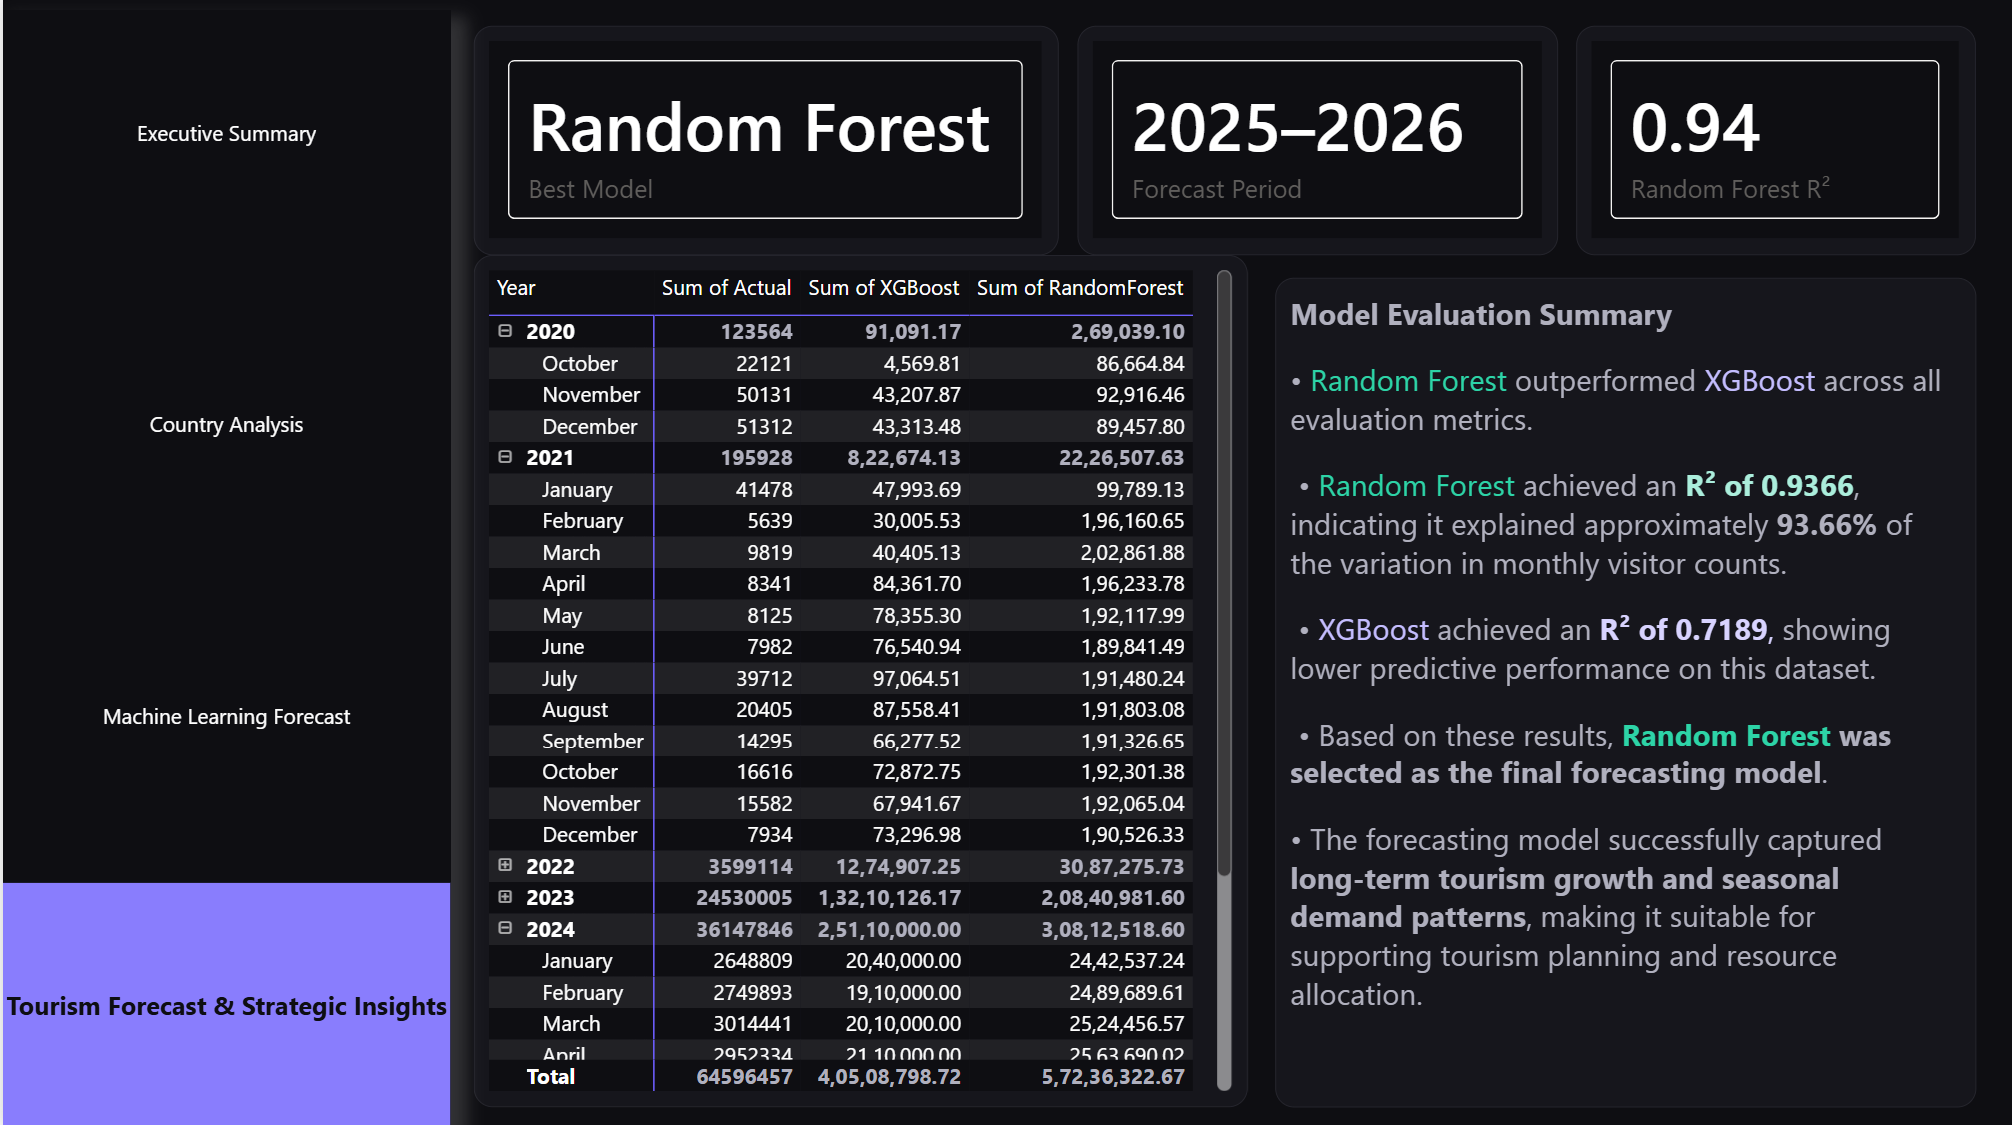

The page's visual inventory and layout, read from the dashboard file:
{"tool":"powerbi","page":{"name":"Tourism Forecast & Strategic Insights","canvas":[1280,720],"ordinal":3},"visuals":[{"type":"cardVisual","fields":{"Data":["JTD_cleaned_1.Best Model"]},"box":[299.2,18.4,371.5,145.9],"z":0},{"type":"cardVisual","fields":{"Data":["Table.Forecast Period"]},"box":[681.7,18.4,305.3,145.9],"z":1000},{"type":"cardVisual","fields":{"Data":["JTD_cleaned_1.Random Forest R²"]},"box":[998.7,18.9,253.8,145.9],"z":2000},{"type":"pivotTable","fields":{"Values":["Sum(Forecast_Results.Actual)","Sum(Forecast_Results.XGBoost)","Sum(Forecast_Results.RandomForest)"],"Rows":["Forecast_Results.Date.Variation.Date Hierarchy.Year","Forecast_Results.Date.Variation.Date Hierarchy.Month"]},"box":[299.2,164.3,491.6,541.9],"z":3000},{"type":"textbox","box":[808,179,445.1,527.2],"z":4000},{"type":"pageNavigator","box":[0,8.6,284.4,711.1],"z":4001}]}

Visuals, with their boxes on the page's 1280x720 design canvas (x1, y1, x2, y2). These are canvas units, not pixel positions in the 2012x1125 screenshot, which may show the page scaled, cropped or inside an application window:
cardVisual - JTD_cleaned_1.Best Model: rect(299, 18, 671, 164)
cardVisual - Table.Forecast Period: rect(682, 18, 987, 164)
cardVisual - JTD_cleaned_1.Random Forest R²: rect(999, 19, 1252, 165)
pivotTable - Sum(Forecast_Results.Actual) x Sum(Forecast_Results.XGBoost): rect(299, 164, 791, 706)
textbox: rect(808, 179, 1253, 706)
pageNavigator: rect(0, 9, 284, 720)
